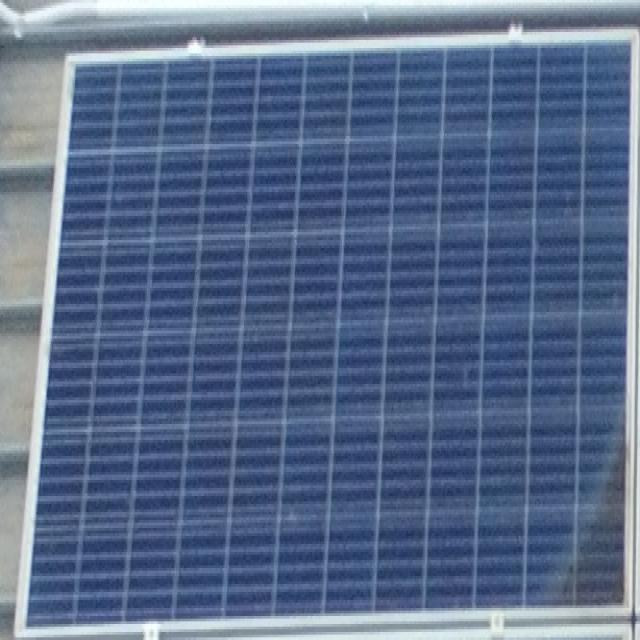Dust: (543, 366, 630, 617)
